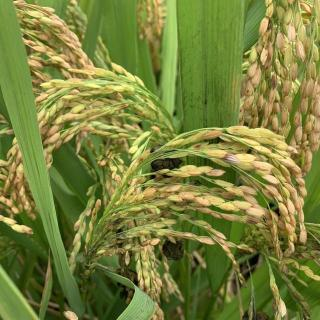Gosong-Palsu: (146, 143, 184, 175), (159, 233, 189, 262)
